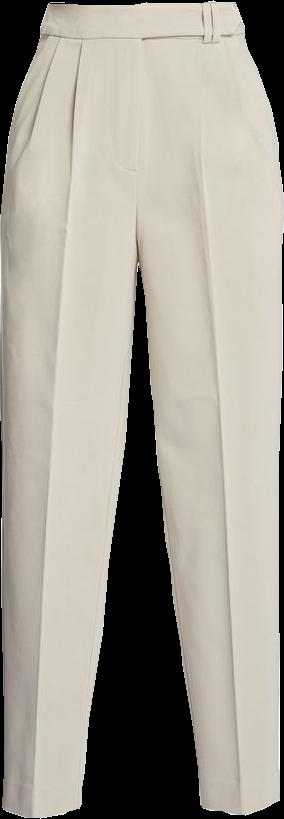Hemline: (197, 788, 281, 815), (0, 801, 86, 818)
Pantleg: (133, 3, 283, 814), (1, 2, 136, 816)
Waistline: (36, 29, 250, 46), (46, 0, 237, 10)
